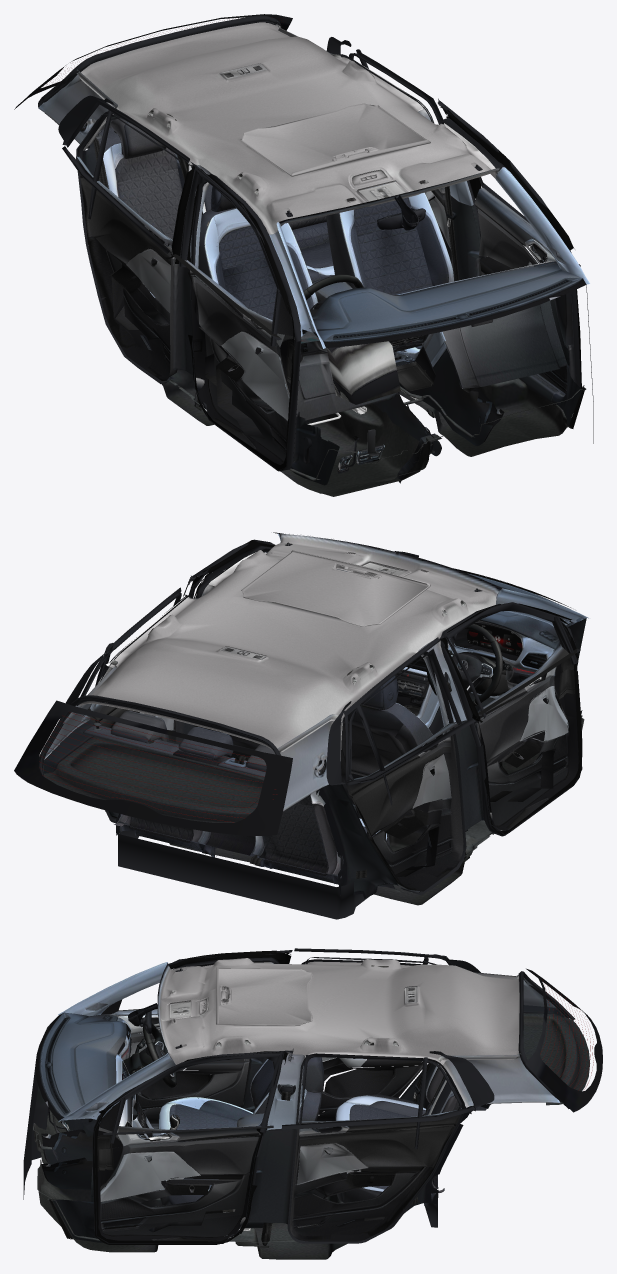
The model's file is Comp_InteriorCar01.gltf.
3 renders of one model, top to bottom at view 1: azimuth 30°, elevation 25°; view 2: azimuth 150°, elevation 25°; view 3: azimuth 270°, elevation 25°, orthographic. The views are drawn at different scales.
Parts seen in each view (by area): view 1: Int_Body, D1, D3, D2, D4; view 2: Int_Body, D1, D3, D4, D2; view 3: Int_Body, D2, D4, D1, D3.
Part boxes in pixels (x1=…): Int_Body: x1=14, y1=14, x2=593, y2=496; D1: x1=165, y1=161, x2=301, y2=471; D3: x1=62, y1=110, x2=189, y2=383; D2: x1=438, y1=101, x2=581, y2=393; D4: x1=339, y1=49, x2=452, y2=267; Int_Body: x1=14, y1=532, x2=588, y2=919; D1: x1=439, y1=602, x2=582, y2=836; D3: x1=343, y1=648, x2=475, y2=895; D4: x1=80, y1=587, x2=192, y2=823; D2: x1=189, y1=539, x2=275, y2=598; Int_Body: x1=23, y1=948, x2=602, y2=1259; D2: x1=92, y1=1050, x2=291, y2=1244; D4: x1=281, y1=1053, x2=474, y2=1243; D1: x1=101, y1=950, x2=292, y2=1124; D3: x1=301, y1=957, x2=436, y2=1121.
Size of the model in its own units: 1.68 by 1.34 by 3.3.
12 materials, 6 textured.
